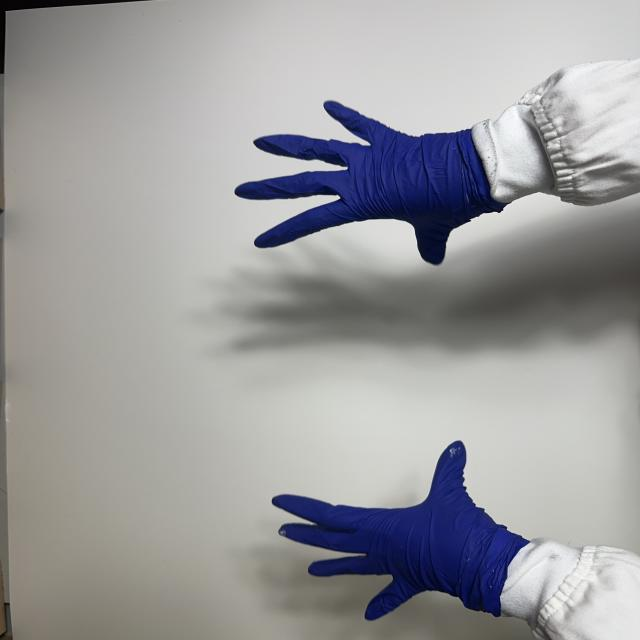gloves_contaminated: (276, 442, 525, 619), (235, 102, 503, 264)
